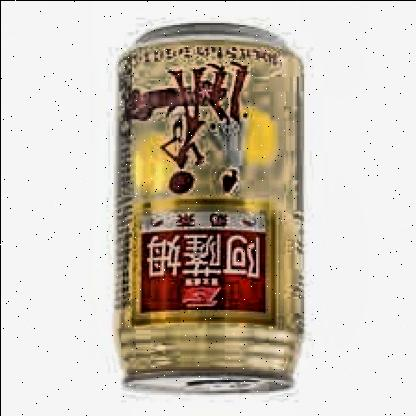Can: (108, 18, 310, 402)
